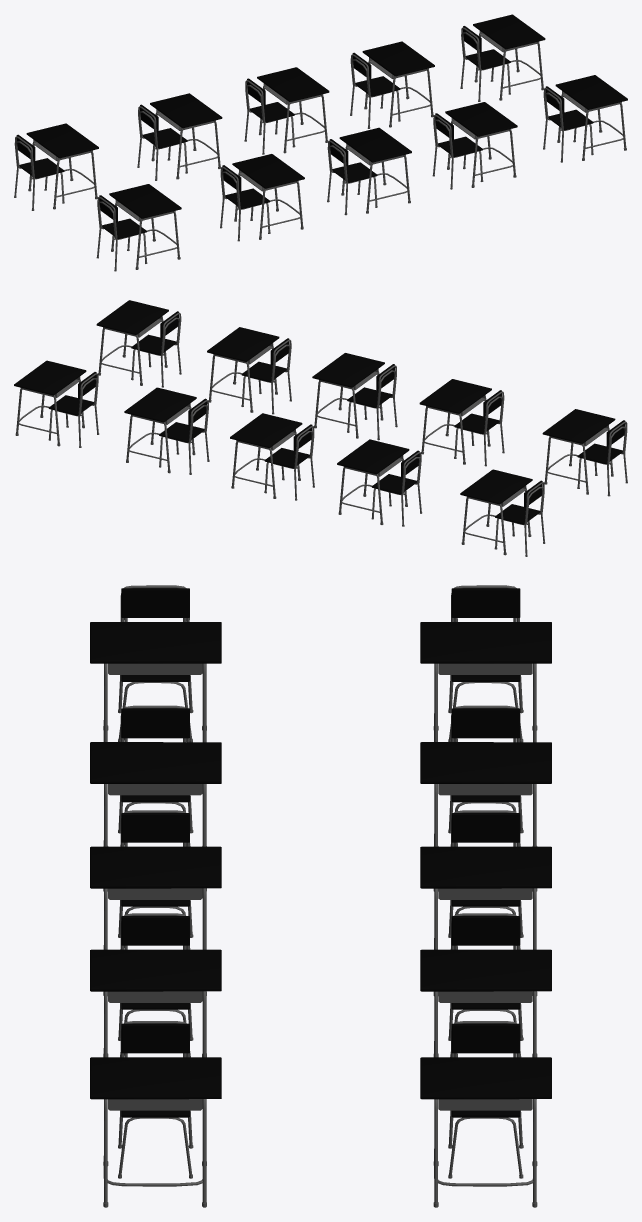
File: CRI_Desk.fbx
3 views of the same model, one above another, from view 1: azimuth 30°, elevation 25°; view 2: azimuth 150°, elevation 25°; view 3: azimuth 270°, elevation 25° (orthographic). The views are drawn at different scales.
Parts seen in each view (by area): view 1: CRI_Desk; view 2: CRI_Desk; view 3: CRI_Desk.
Boxes of the visible parts, x1,y1,x2,y2 form: CRI_Desk: [14, 14, 627, 271]; CRI_Desk: [14, 300, 627, 556]; CRI_Desk: [90, 585, 551, 1207].
Size of the model in its own units: 953 by 113 by 373.
Materials: 1 (1 with a texture image).
